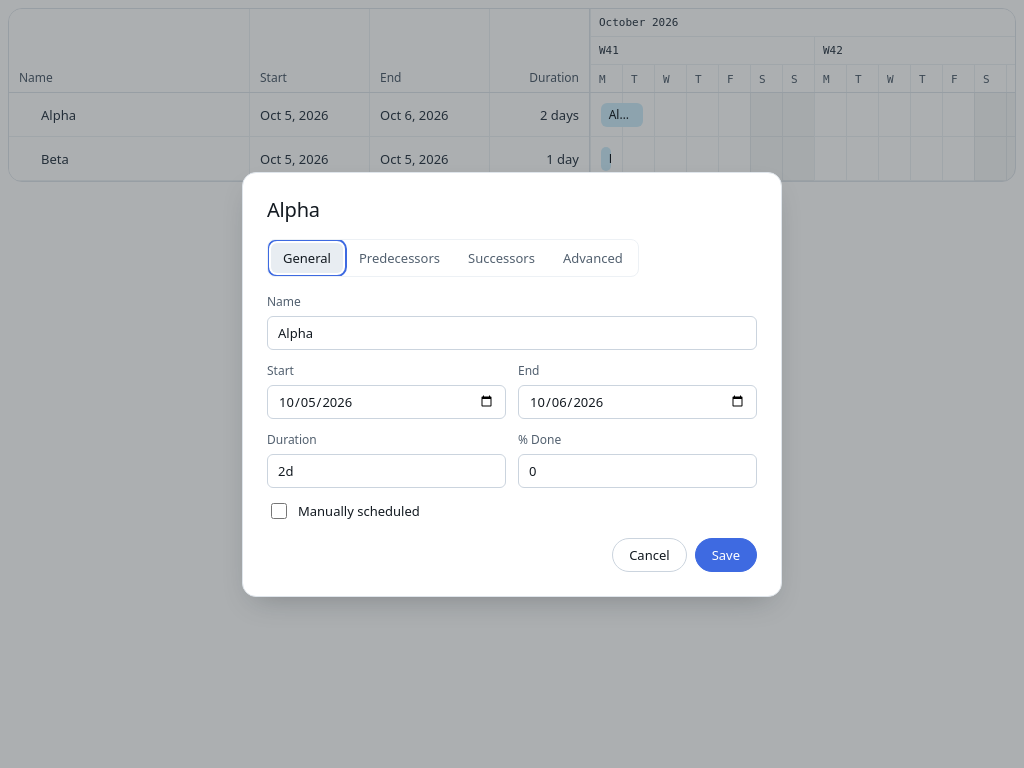
it: <Gantt /> › menus and the task editor › shows why the dialog cannot save, and closes on Cancel or Escape without saving
The image size is (1024, 768).
Replace the text in the field labelled "Duration" with "soon" at (386, 470), box [267,454,506,488]
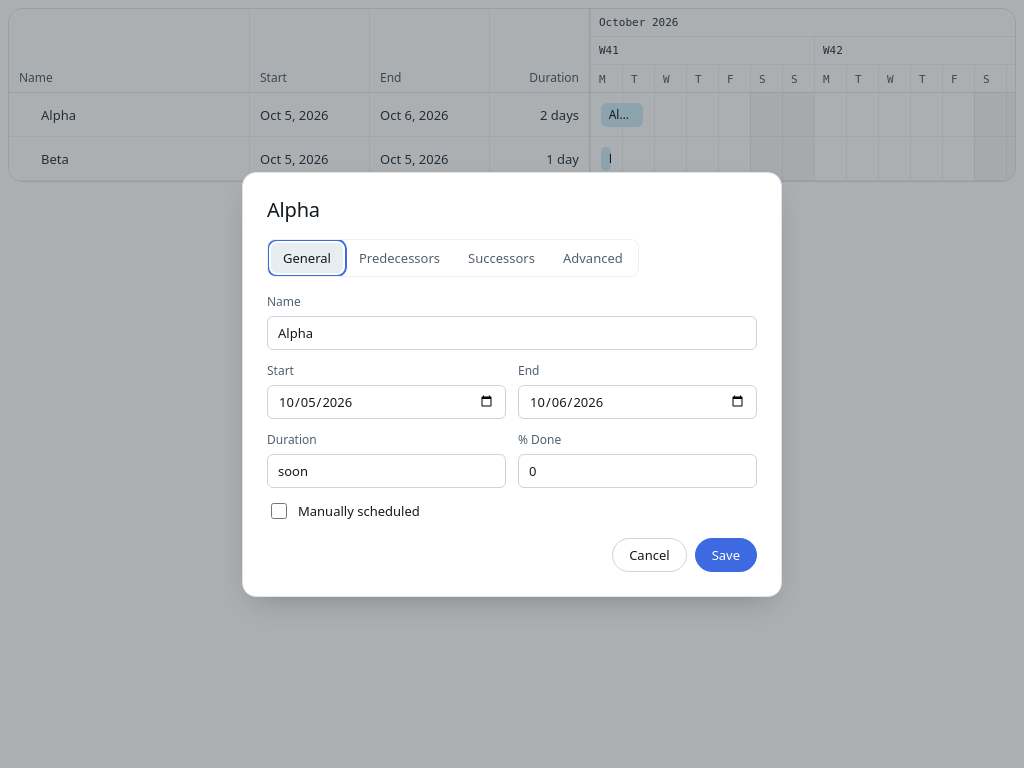
Click the button "Save" at (726, 554), box [695,538,757,572]
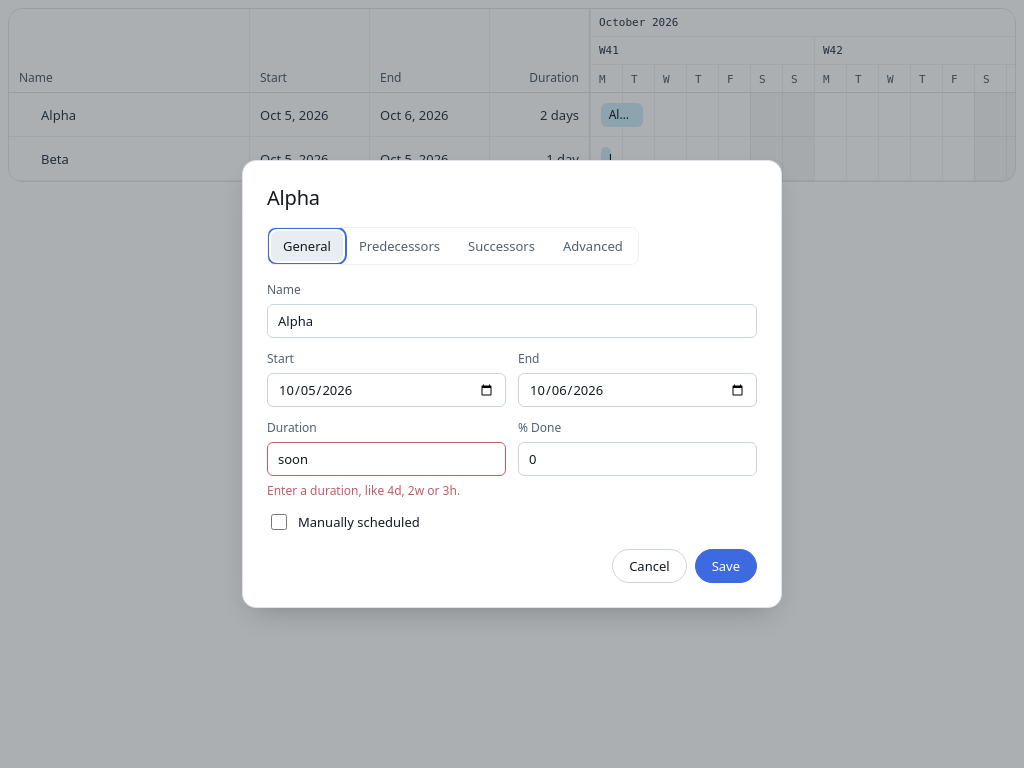
Result: the field labelled "Duration" is marked as invalid at [267,442,506,476]
Click the button "Cancel" at (649, 566), box [612,549,687,583]
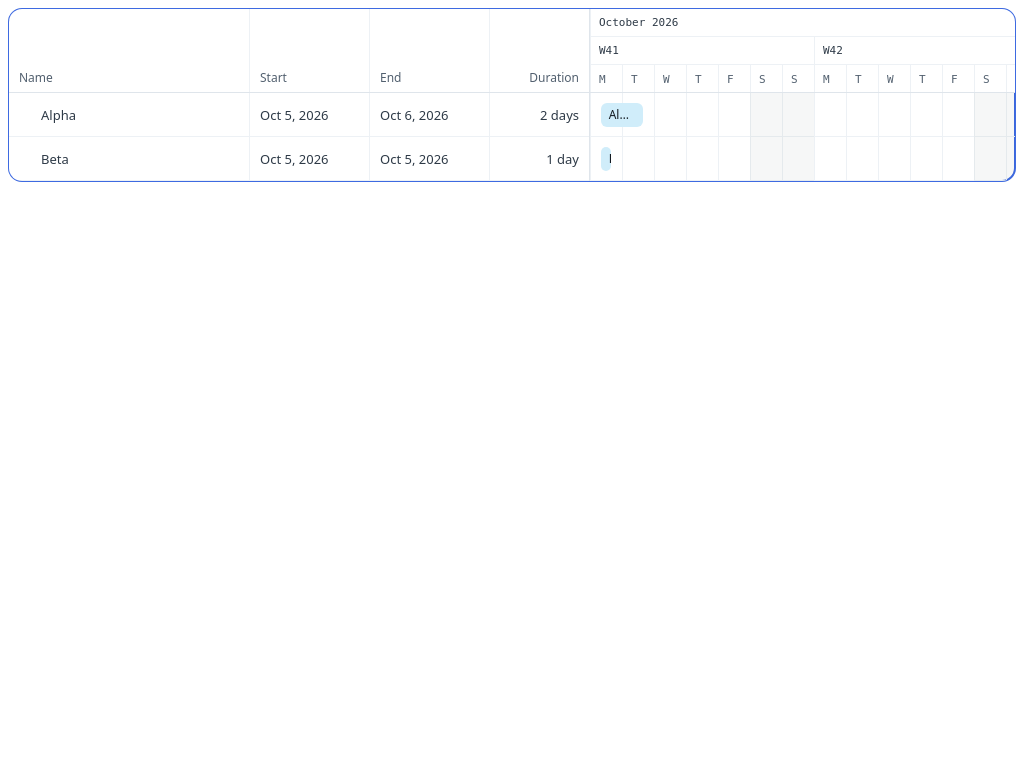
Result: the dialog is gone
